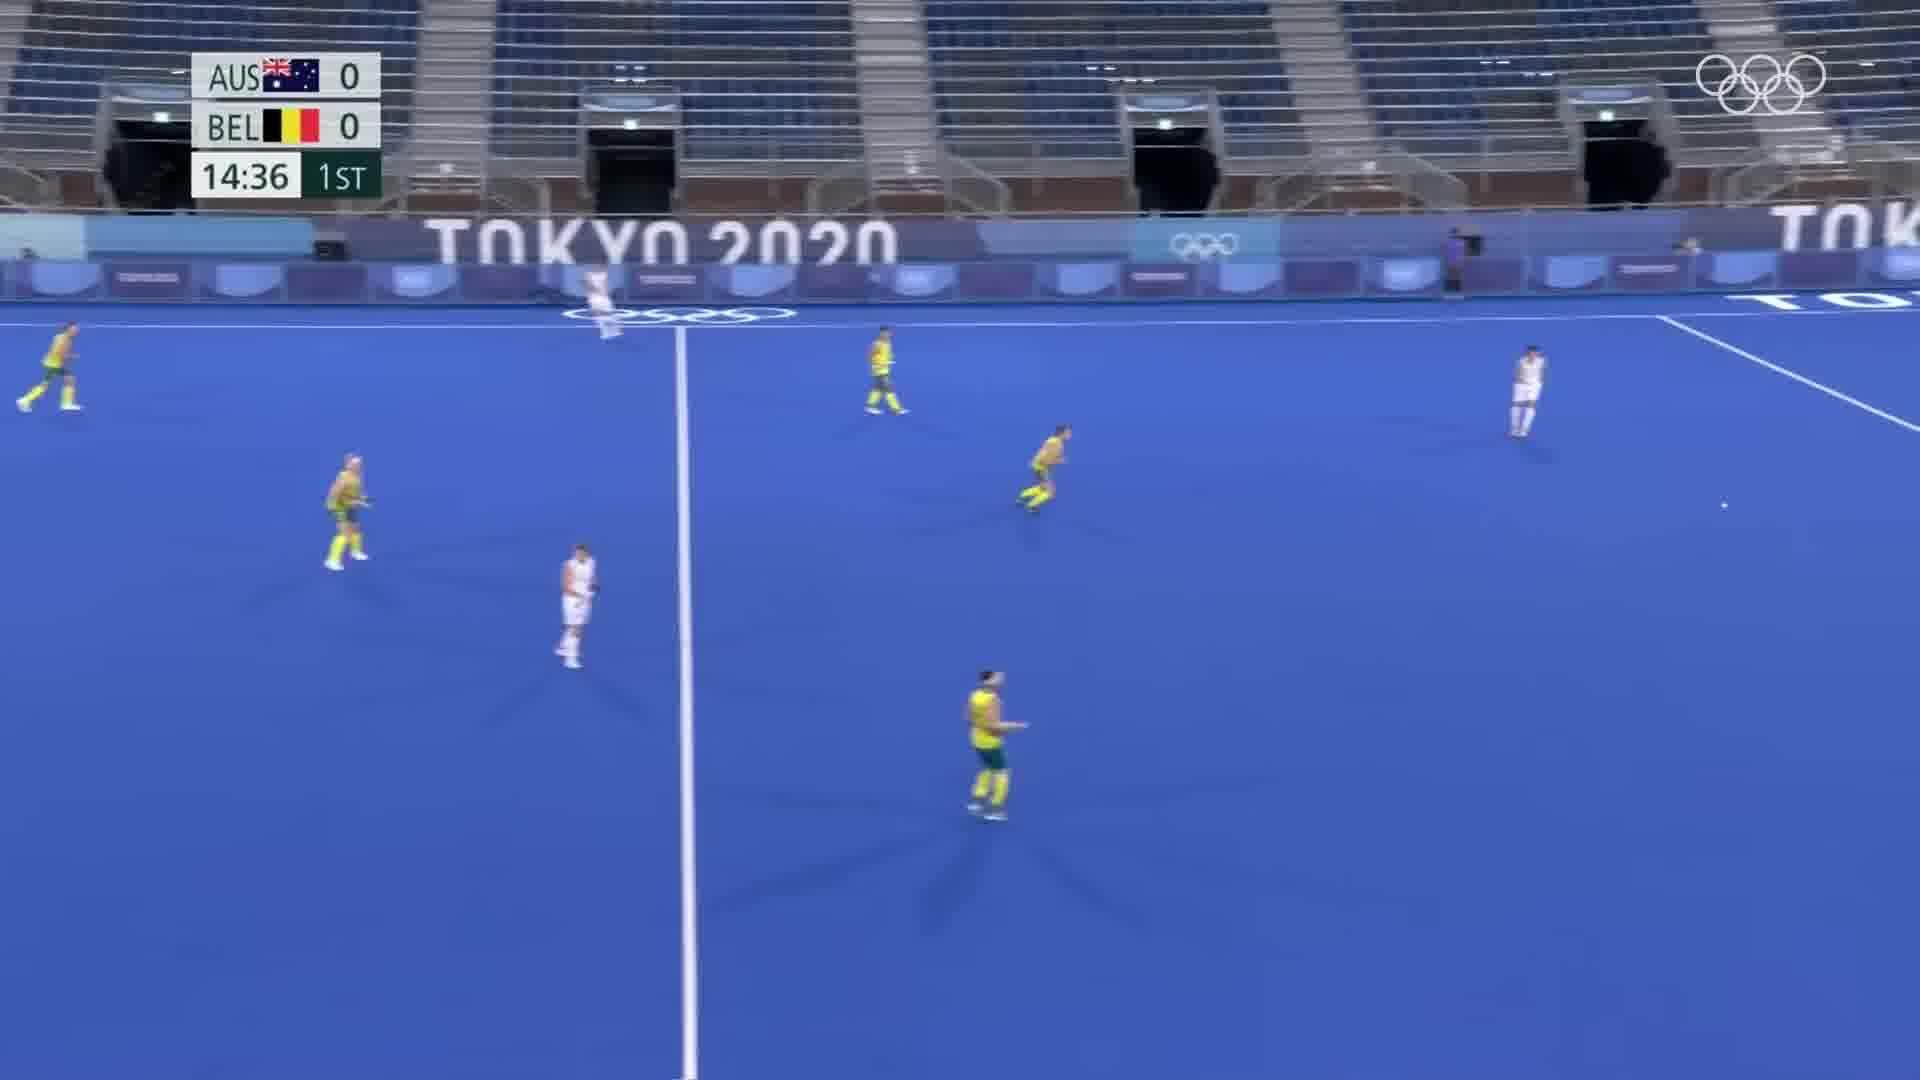ball: (1706, 489, 1734, 526)
